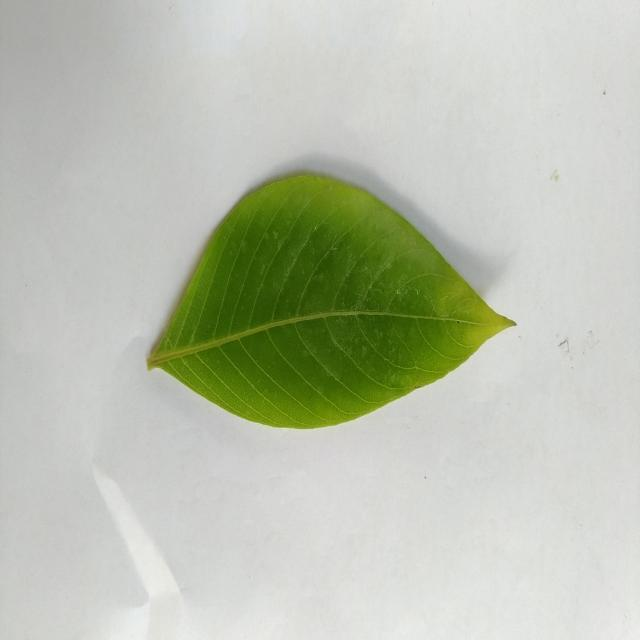malabar_nut: (148, 176, 514, 429)
